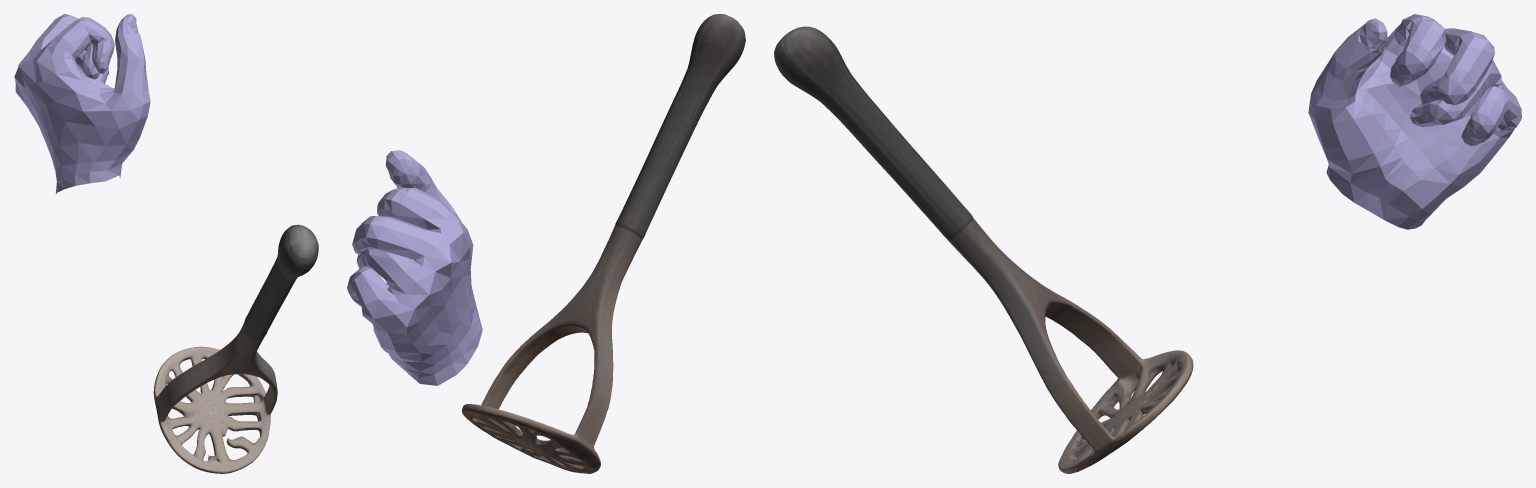
The model's file is frame_0067_source_000067_hand_object.glb.
3 views of the same model, side by side, from view 1: azimuth 30°, elevation 25°; view 2: azimuth 150°, elevation 25°; view 3: azimuth 270°, elevation 25° (orthographic). The views are drawn at different scales.
Parts seen in each view (by area): view 1: world; view 2: world; view 3: world.
Boxes of the visible parts, x1,y1,x2,y2 form: world: (14,14,318,473); world: (347,14,745,473); world: (774,14,1521,473).
Bounding box in the file's own units: 0.0804 × 0.2426 × 0.3589.
